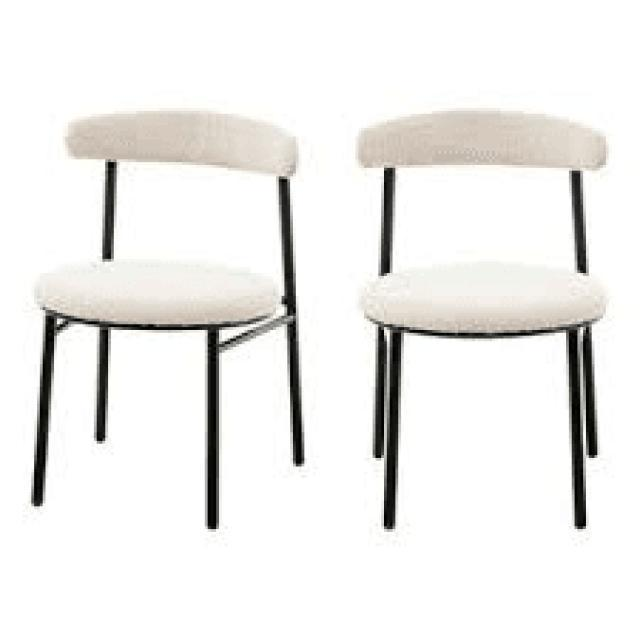chair: (26, 103, 308, 530), (351, 106, 612, 531), (28, 88, 290, 314), (358, 111, 612, 322)
